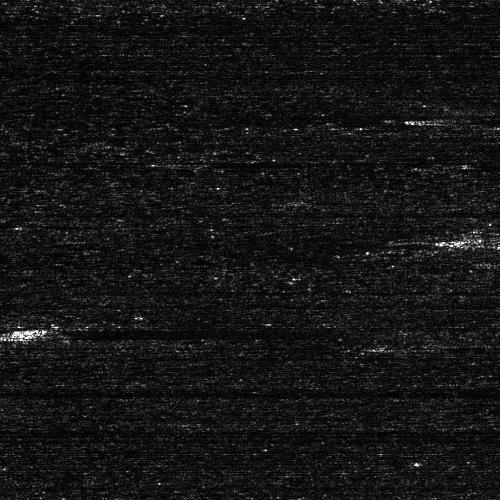object: (414, 233, 500, 250), (0, 327, 84, 338), (380, 116, 463, 123), (141, 160, 214, 165), (433, 164, 486, 167), (21, 223, 52, 226)
shadow: (32, 327, 339, 338), (422, 116, 500, 123), (178, 160, 256, 165), (36, 223, 112, 226), (459, 164, 500, 167)
